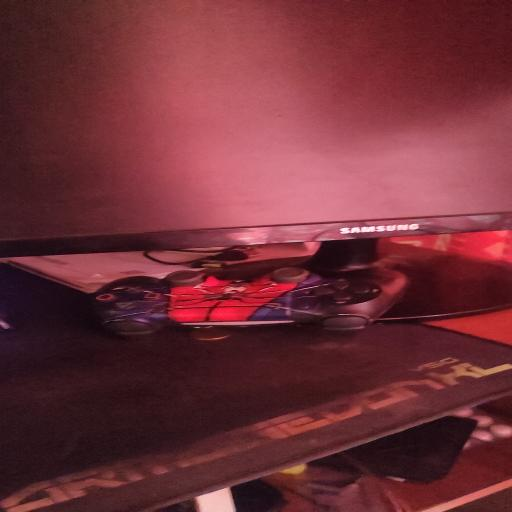ControlPlay4: (94, 265, 408, 334)
